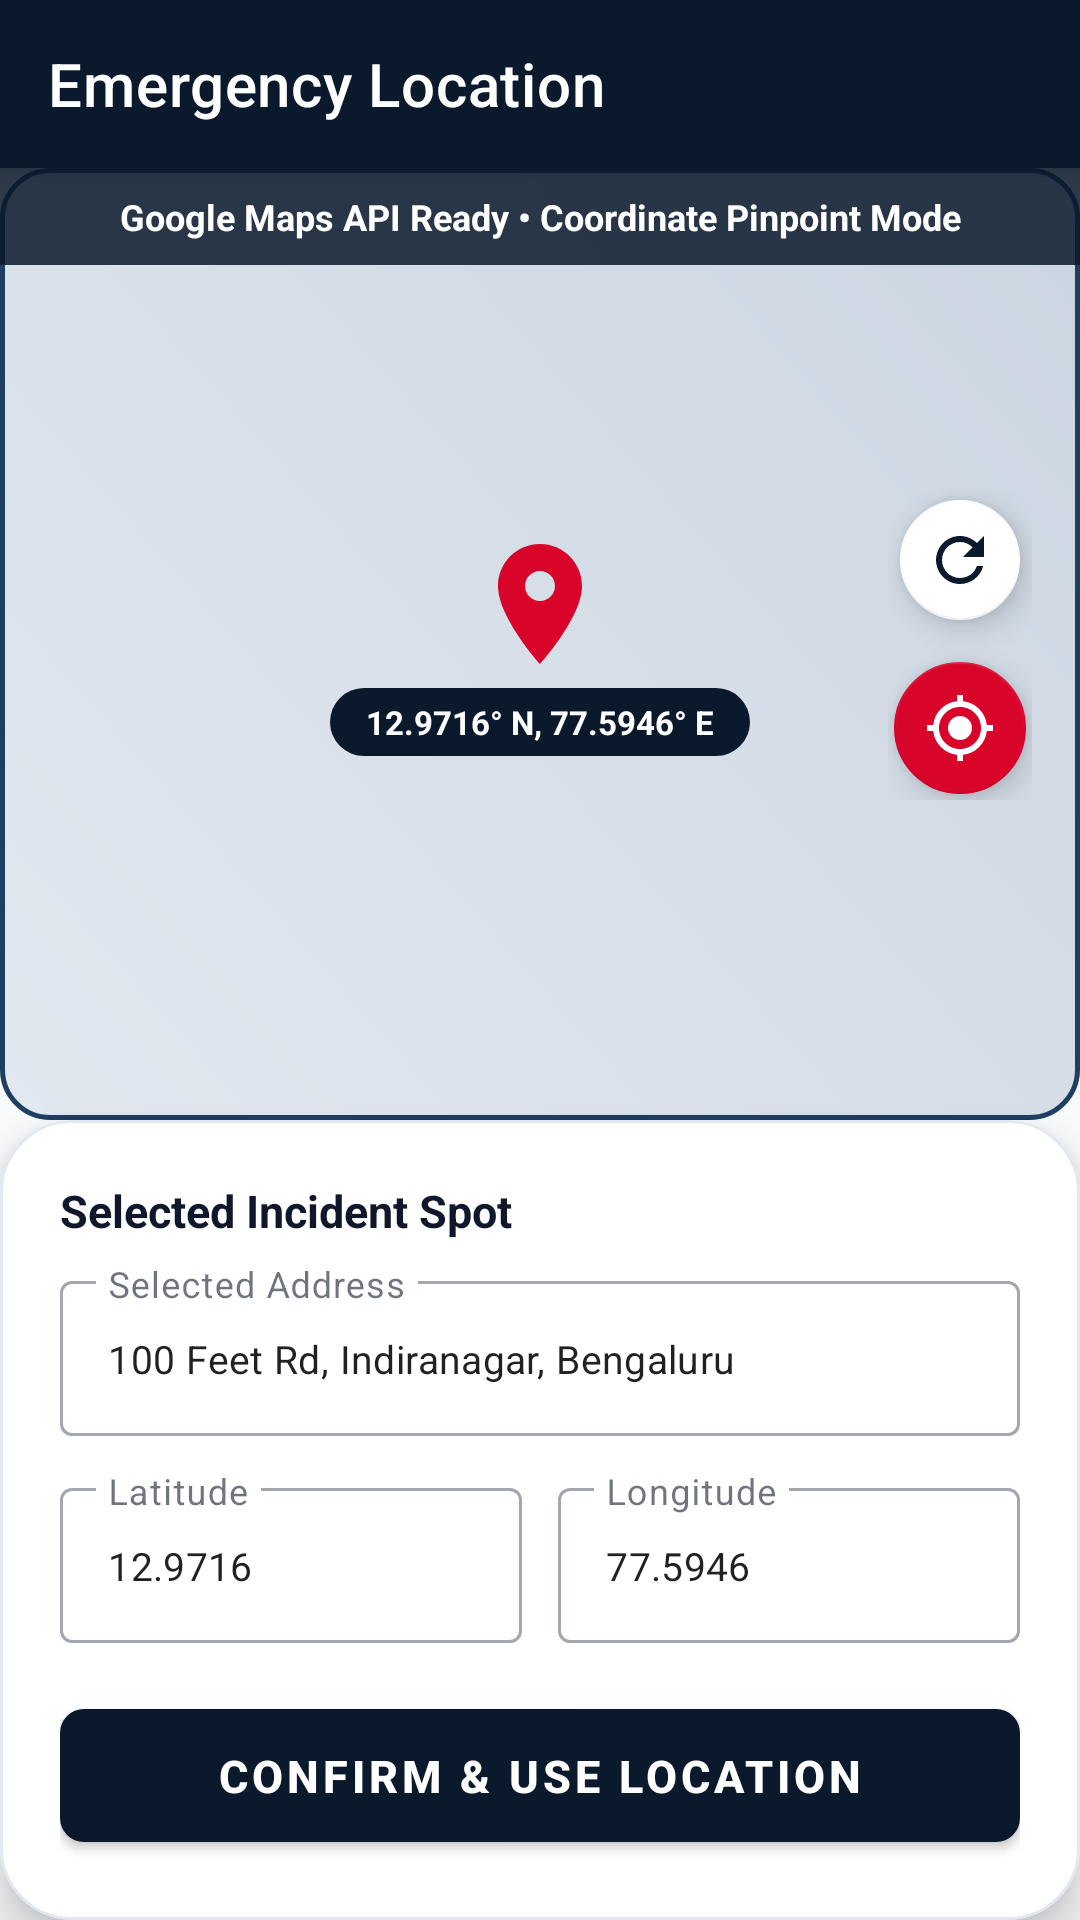

Icons on this 1080 x 1920 Android screen, each with its box as box(x1, y1, x2, y2):
Current Location: box(894, 662, 1028, 797)
Incident Pin: box(498, 544, 582, 664)
